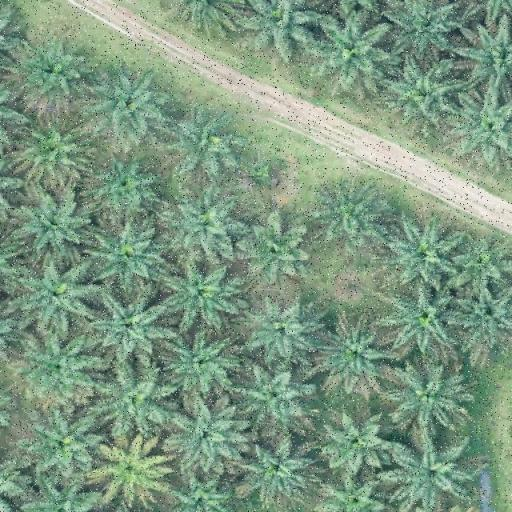Ganoderma: (104, 446, 155, 492)
